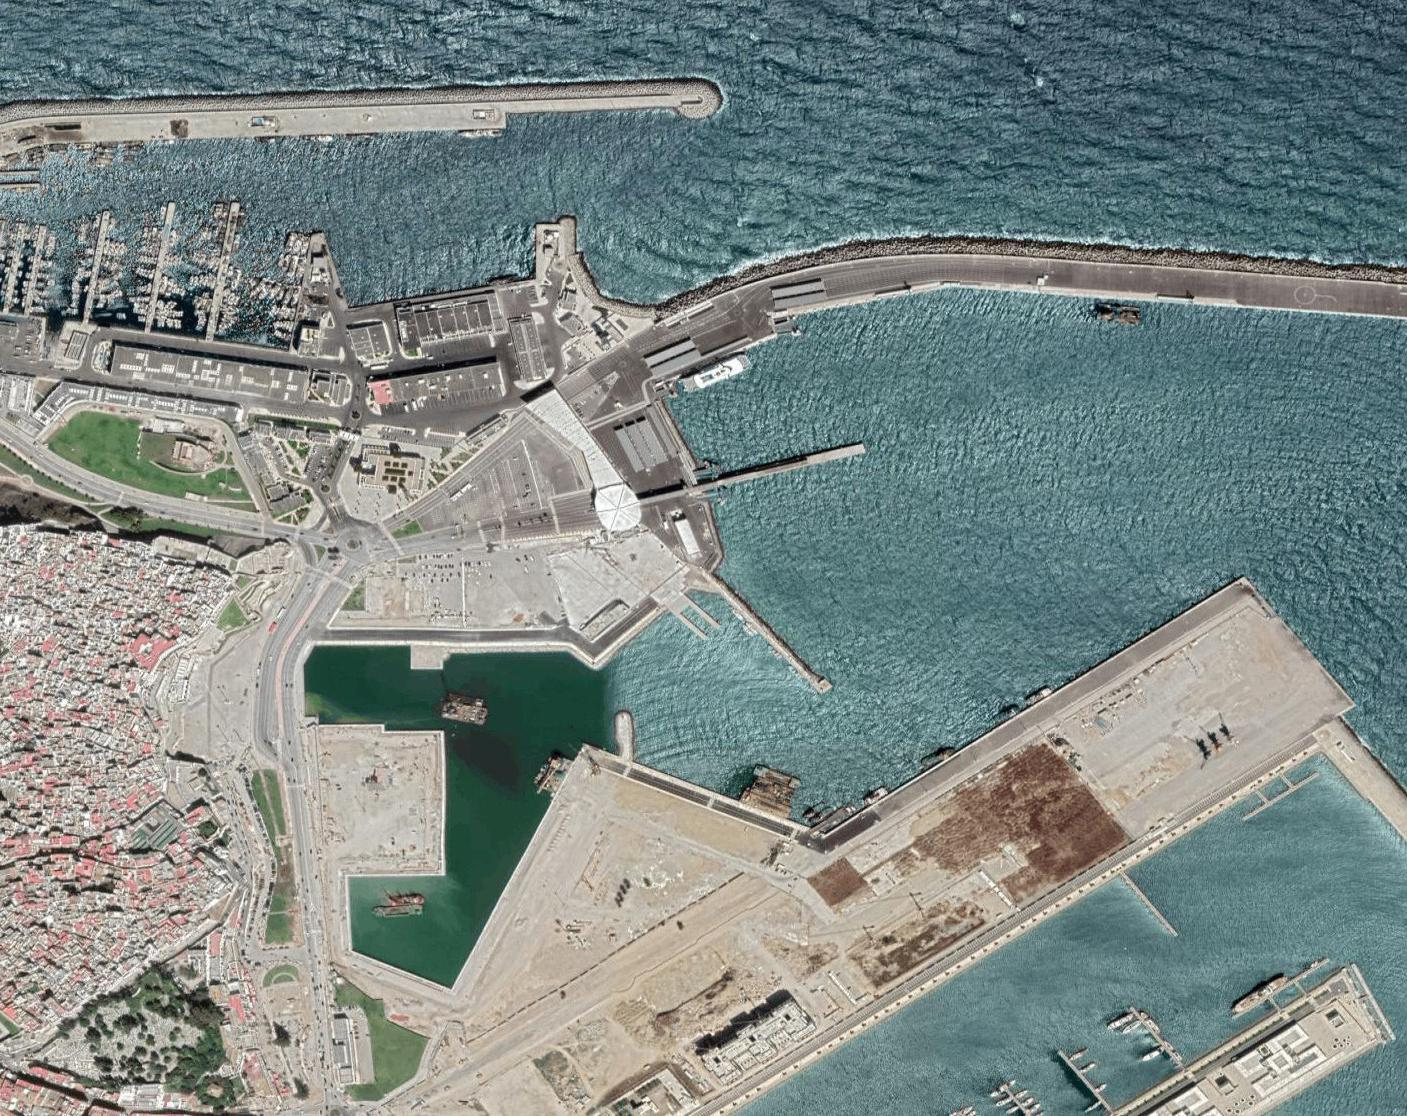harbor: (13, 65, 1407, 1101)
